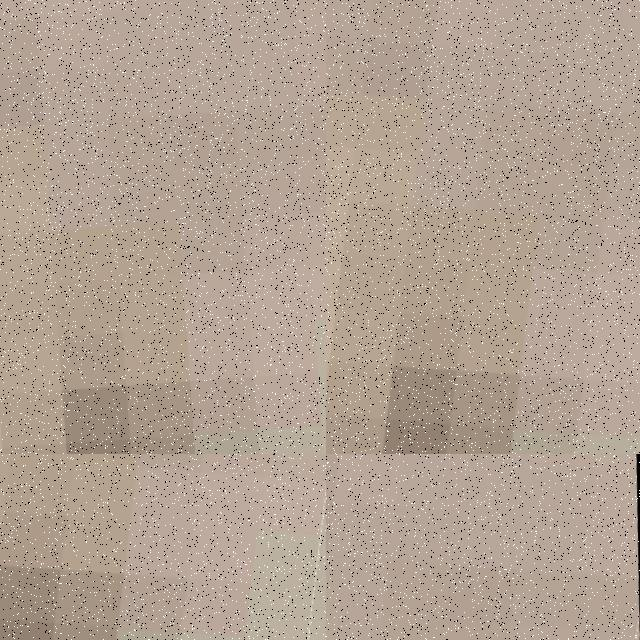drone: (326, 0, 640, 454), (0, 454, 326, 640), (326, 454, 640, 640)
